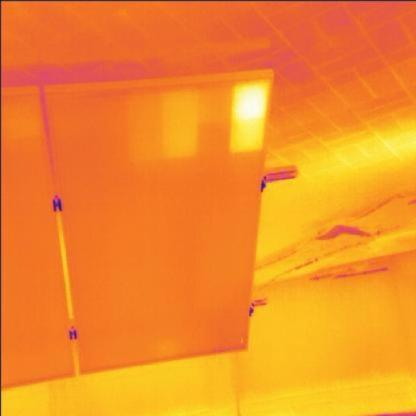anomaly: (152, 86, 205, 161), (229, 76, 272, 157)
